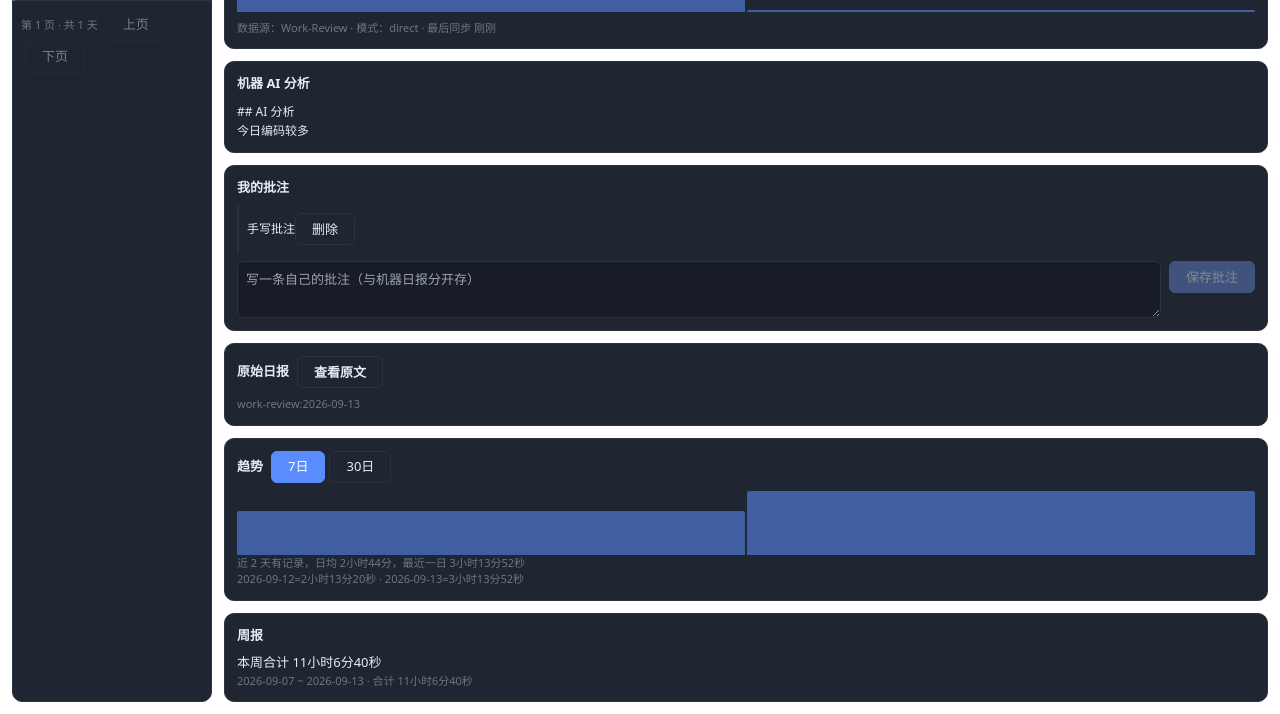
Test: ReviewApp › 打开原文抽屉显示 markdown
(page scrolled)
Click the button with aria-label "查看原始日报" at (340,372), box [297, 356, 383, 388]
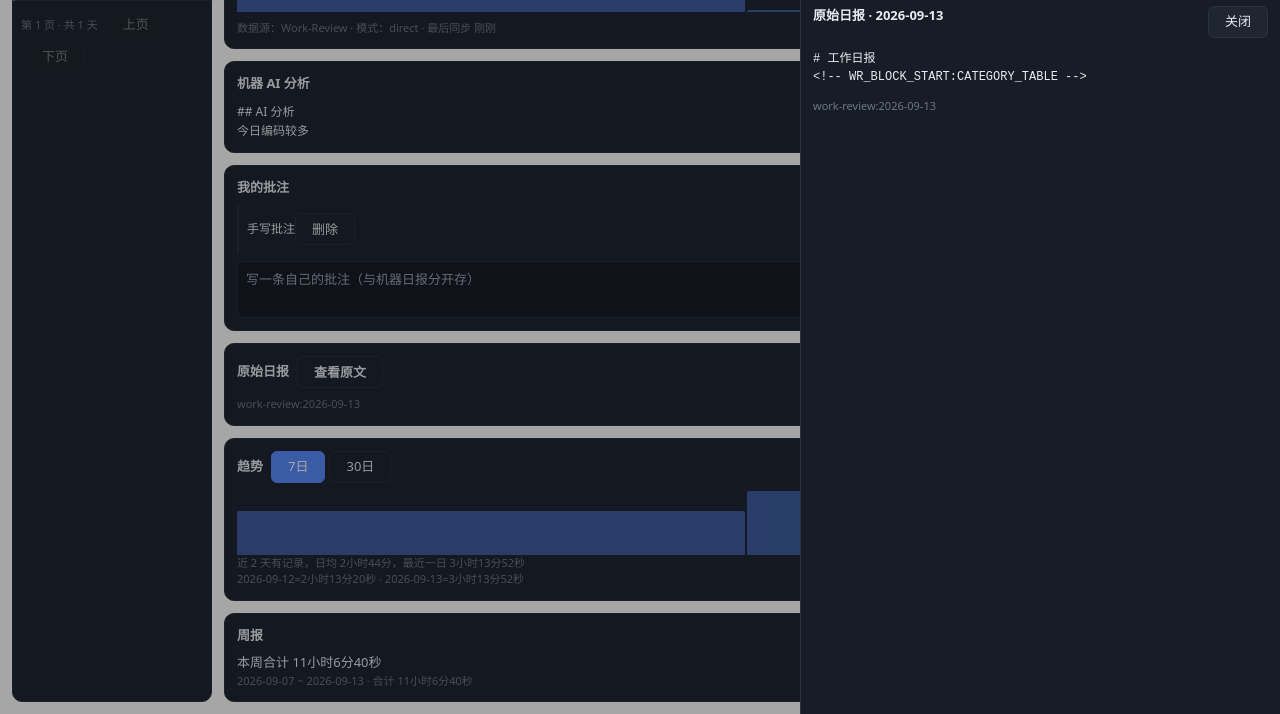
Expected: the text with test id "raw-markdown" shows "WR_BLOCK_START", [813, 52, 1087, 84]
